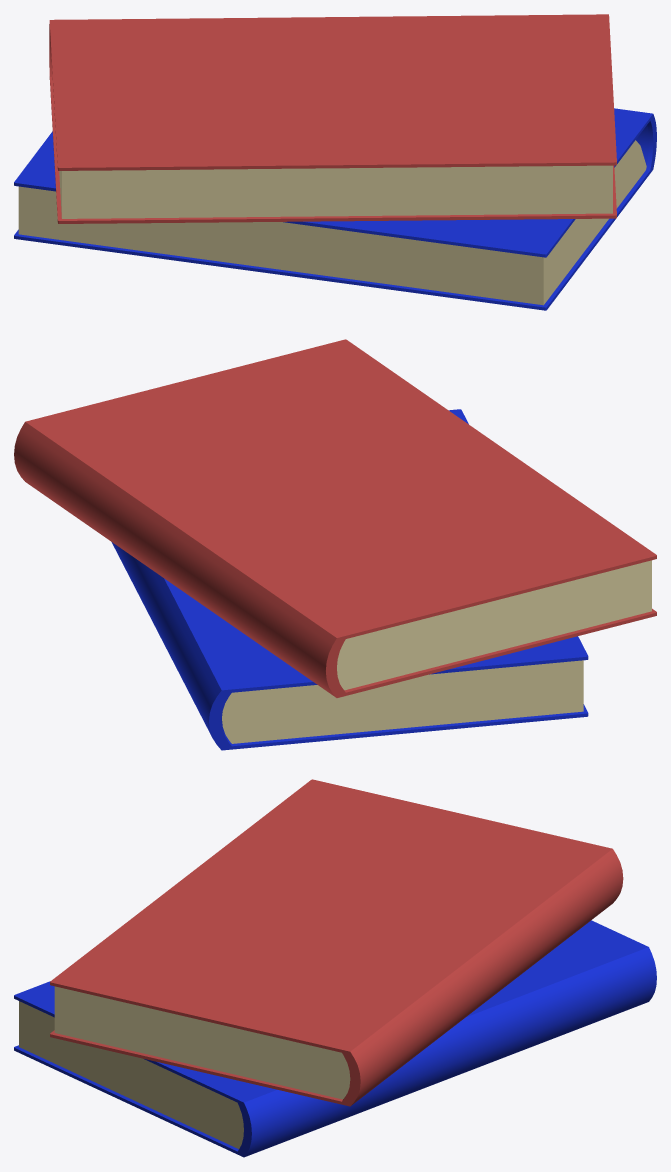
Rendered from books.fbx.
3 renders of one model, top to bottom at view 1: azimuth 30°, elevation 25°; view 2: azimuth 150°, elevation 25°; view 3: azimuth 270°, elevation 25°, orthographic. The views are drawn at different scales.
Parts seen in each view (by area): view 1: Cube.005, Cube.004; view 2: Cube.005, Cube.004; view 3: Cube.005, Cube.004.
Part boxes in pixels (x1,y1,x2,y2): Cube.005: (49,14,616,223); Cube.004: (14,108,656,310); Cube.005: (14,339,656,697); Cube.004: (111,409,588,750); Cube.005: (50,779,623,1106); Cube.004: (14,920,656,1157).
Size of the model in its own units: 48.14 by 9.04 by 47.63.
